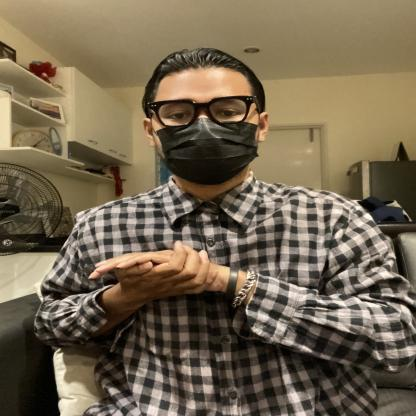Love: (34, 214, 278, 326)
